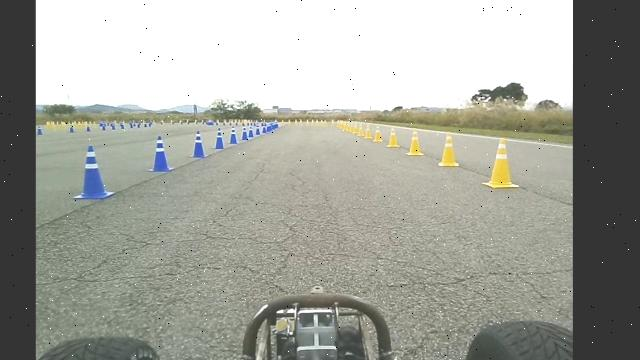blue cone: (74, 143, 113, 209), (147, 133, 177, 177), (187, 127, 208, 160)
yellow cone: (482, 137, 520, 189), (438, 131, 459, 167), (406, 129, 424, 156), (386, 126, 400, 148), (372, 125, 383, 142), (363, 124, 372, 139), (356, 124, 364, 136)
